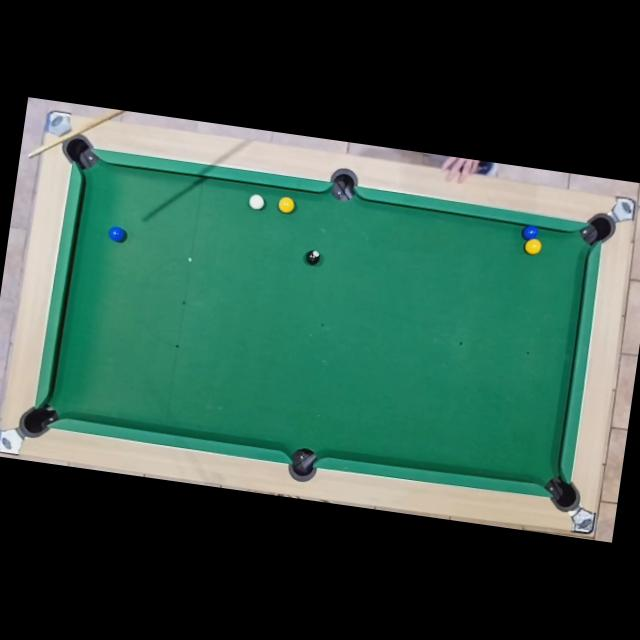Ball: (107, 226, 127, 244), (278, 196, 296, 214), (520, 225, 538, 242), (248, 193, 266, 210), (524, 240, 542, 256), (305, 250, 322, 266)
